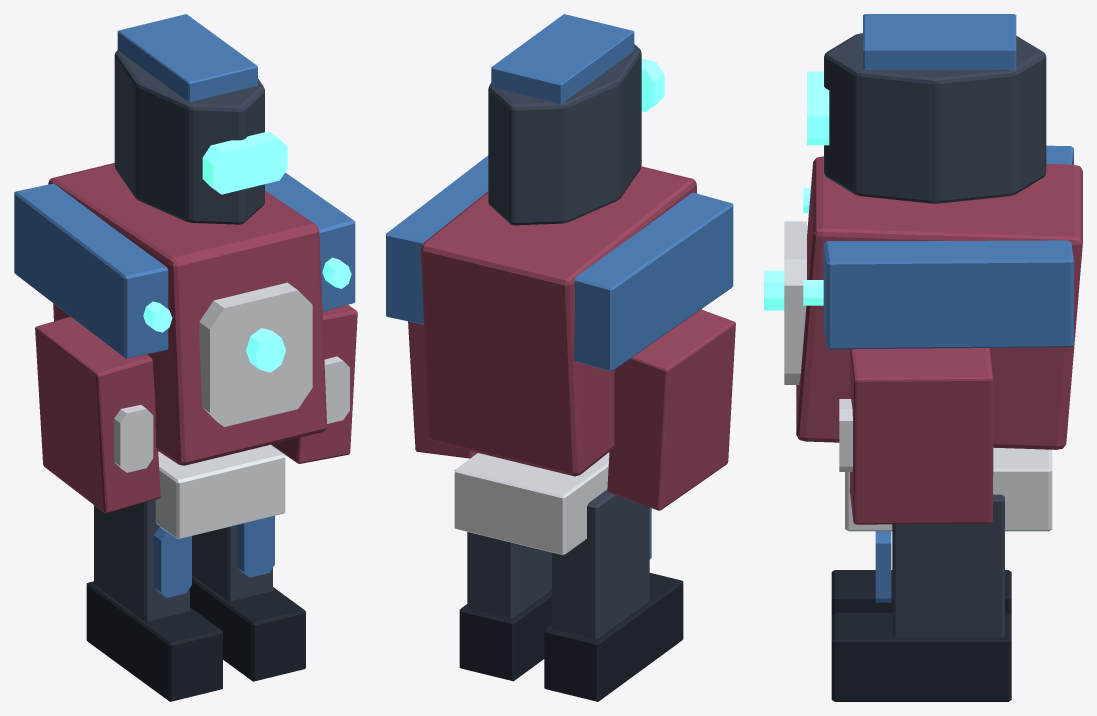
The model's file is enemy_standard__intact.glb.
3 renders of one model, left to right at view 1: azimuth 30°, elevation 25°; view 2: azimuth 150°, elevation 25°; view 3: azimuth 270°, elevation 25°, orthographic. The views are drawn at different scales.
Visible parts, largest first — view 1: ROLE_threat, ROLE_accent, ROLE_primary, ROLE_secondary, ROLE_rubber, ROLE_interaction; view 2: ROLE_threat, ROLE_primary, ROLE_accent, ROLE_rubber, ROLE_secondary, ROLE_interaction; view 3: ROLE_threat, ROLE_primary, ROLE_accent, ROLE_rubber, ROLE_secondary, ROLE_interaction.
Boxes of the visible parts, left/top/right/bottom form: ROLE_threat: left=35, top=163, right=357, bottom=513; ROLE_accent: left=14, top=14, right=355, bottom=597; ROLE_primary: left=94, top=50, right=272, bottom=621; ROLE_secondary: left=114, top=282, right=349, bottom=539; ROLE_rubber: left=86, top=575, right=305, bottom=701; ROLE_interaction: left=143, top=131, right=351, bottom=372; ROLE_threat: left=408, top=166, right=735, bottom=510; ROLE_primary: left=467, top=44, right=649, bottom=639; ROLE_accent: left=386, top=14, right=733, bottom=559; ROLE_rubber: left=459, top=573, right=683, bottom=701; ROLE_secondary: left=454, top=452, right=609, bottom=555; ROLE_interaction: left=641, top=58, right=664, bottom=112; ROLE_threat: left=796, top=156, right=1082, bottom=524; ROLE_primary: left=824, top=33, right=1046, bottom=637; ROLE_accent: left=823, top=14, right=1073, bottom=602; ROLE_rubber: left=831, top=570, right=1011, bottom=701; ROLE_secondary: left=784, top=221, right=1052, bottom=531; ROLE_interaction: left=764, top=71, right=829, bottom=310.
Size of the model in its own units: 2.5 by 5.5 by 2.5.
